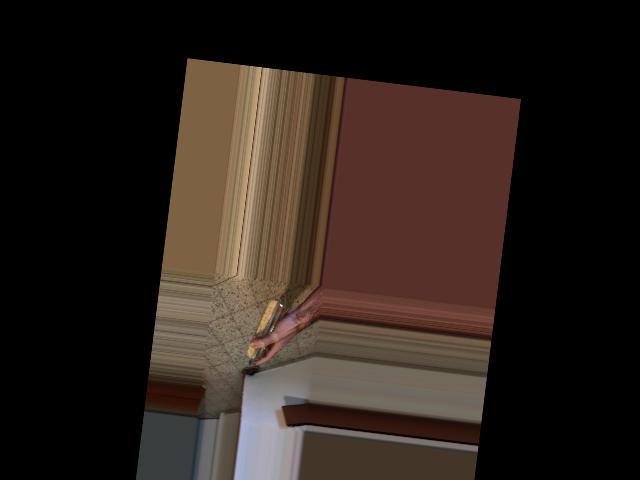cheese: (237, 302, 300, 373)
